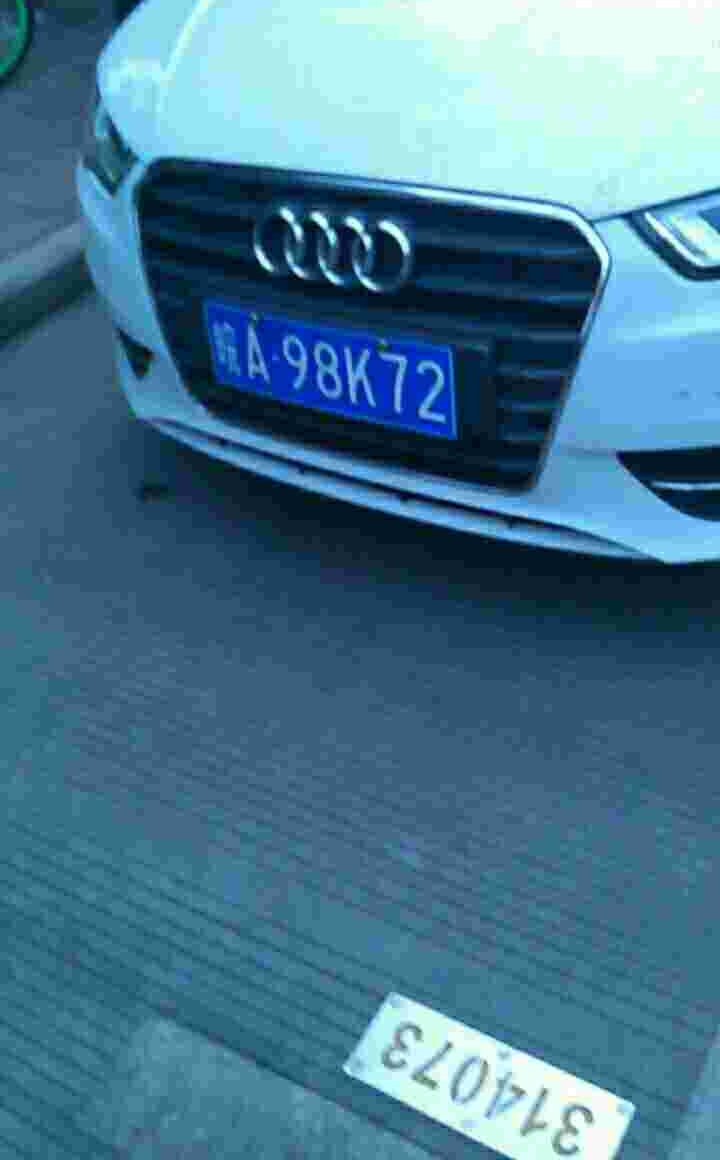license_plate: (199, 307, 471, 439)
